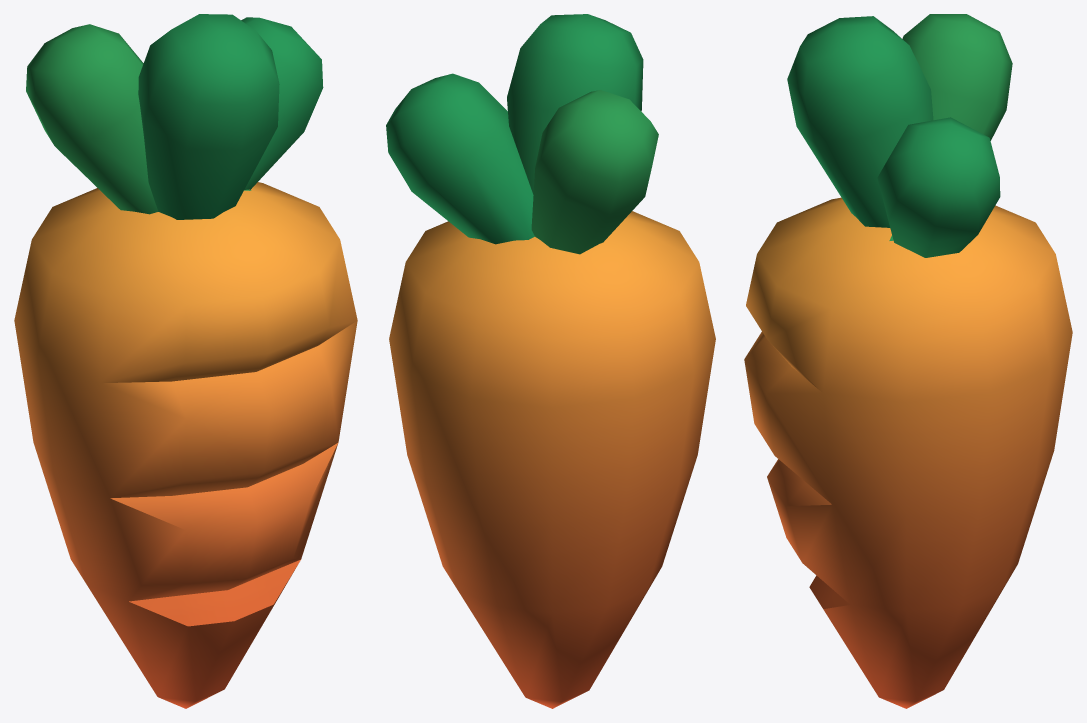
File: Carrot_.fbx
3 views of the same model, side by side, from view 1: azimuth 30°, elevation 25°; view 2: azimuth 150°, elevation 25°; view 3: azimuth 270°, elevation 25° (orthographic). The views are drawn at different scales.
Parts seen in each view (by area): view 1: Carrot; view 2: Carrot; view 3: Carrot.
Boxes of the visible parts, box(x1,y1,x2,y2) form: Carrot: box(14, 14, 357, 708); Carrot: box(386, 14, 715, 708); Carrot: box(744, 14, 1072, 708).
Size of the model in its own units: 41.35 by 93.77 by 40.82.
